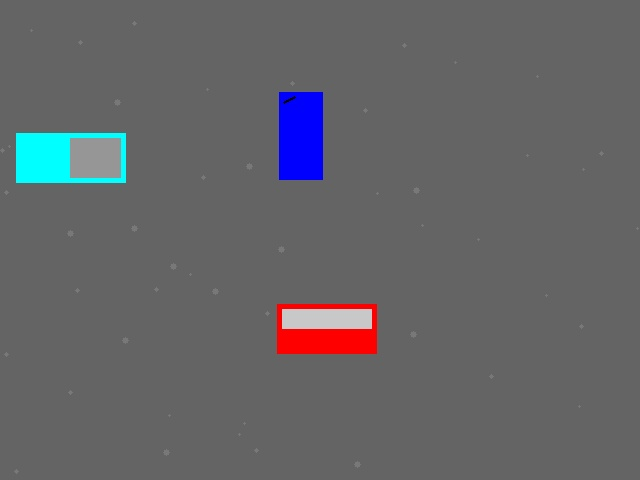car: (277, 304, 376, 353)
motorcycle: (279, 92, 322, 179)
truck: (16, 133, 125, 182)
